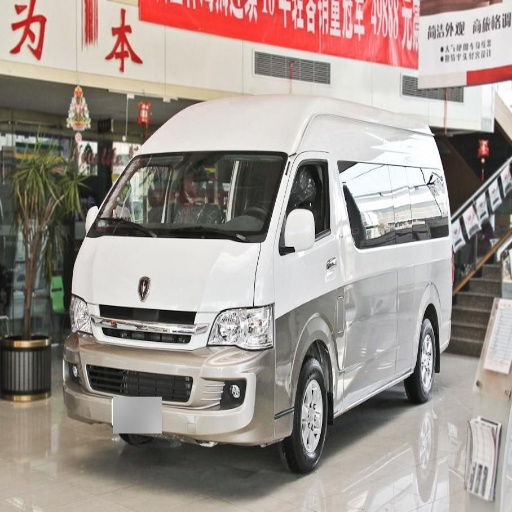front_bumper: (66, 302, 300, 445)
front_glass: (90, 151, 285, 242)
front_left_door: (278, 155, 338, 282), (341, 298, 399, 398)
trunk: (362, 244, 443, 322)
